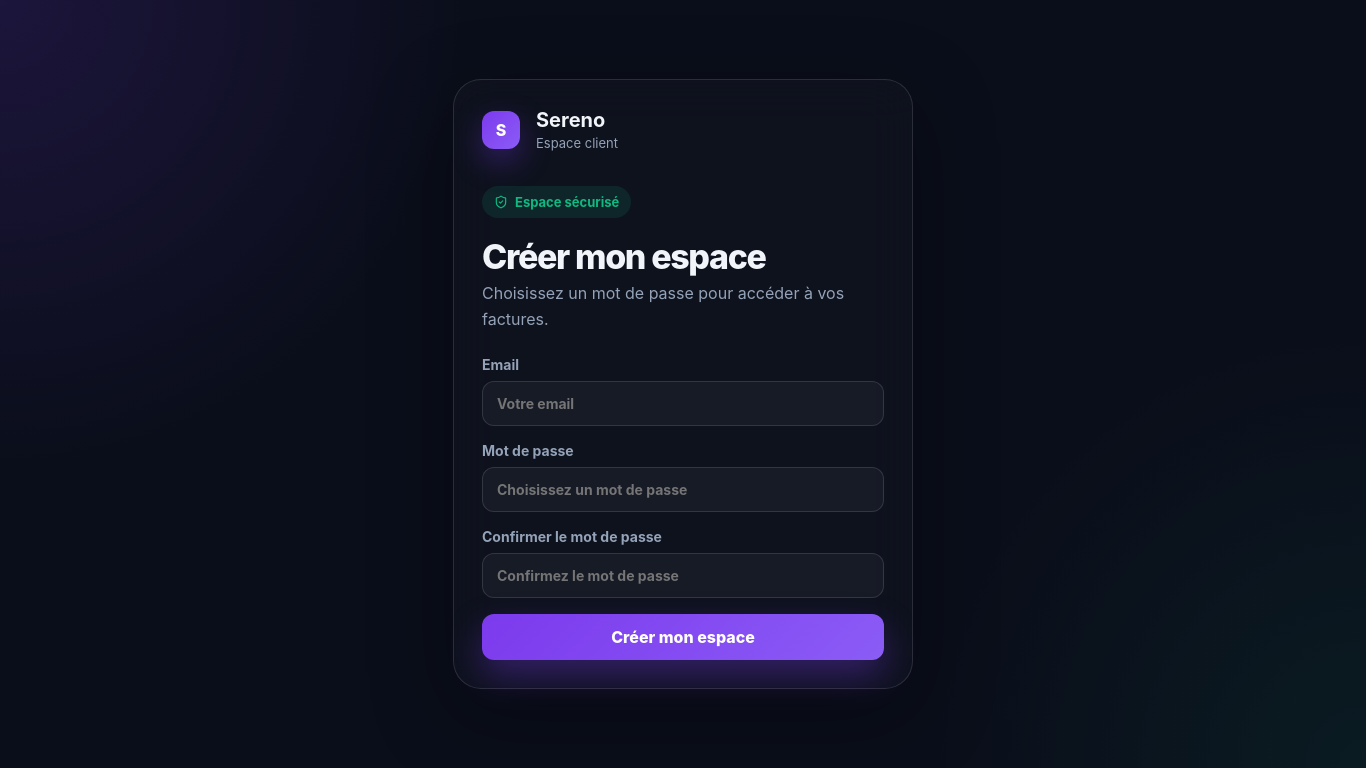
EspaceClientActivationPage › mots de passe différents -> erreur cliente, AUCUN appel API
In the field with placeholder "Votre email": (683, 404) [482,381,884,426], type "nouveau@test.fr"
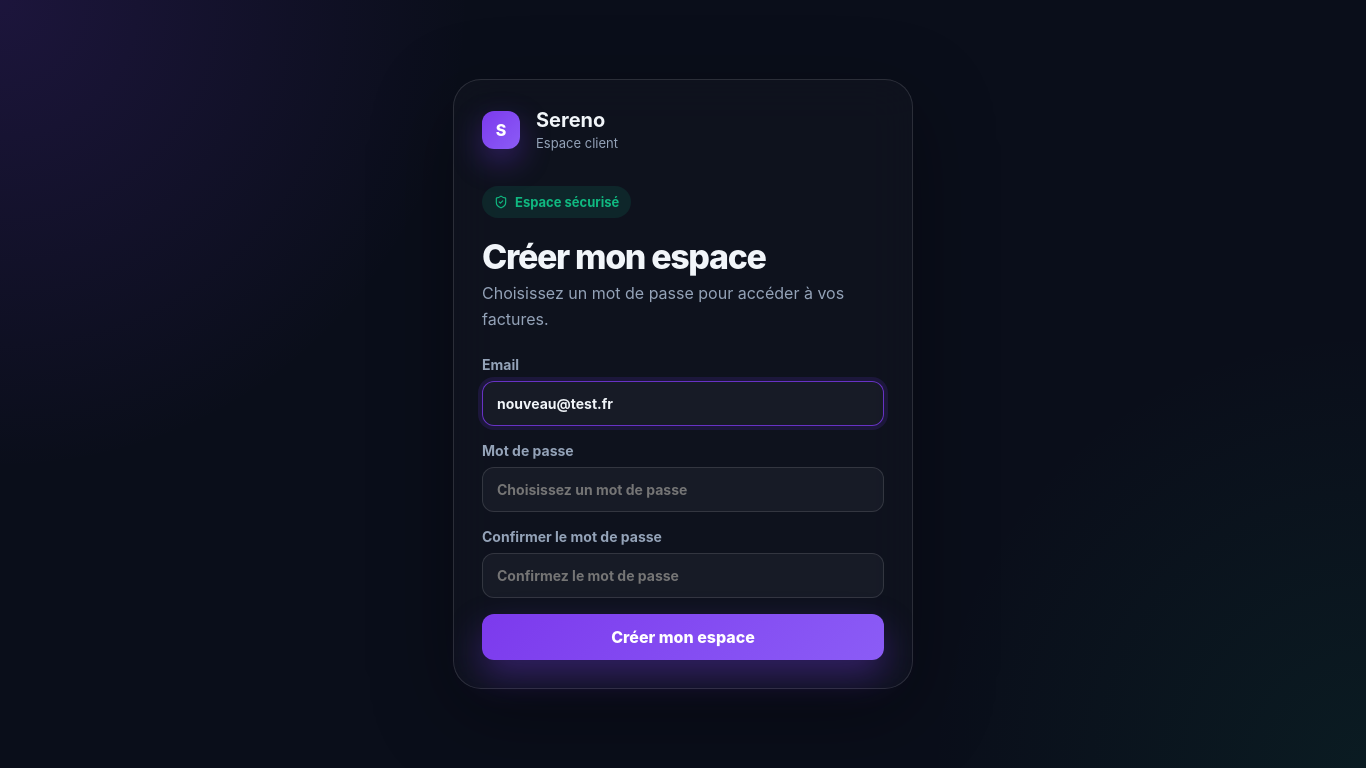
In the password field with placeholder "Choisissez un mot de passe": (683, 490) [482,467,884,512], type "motdepasse123"
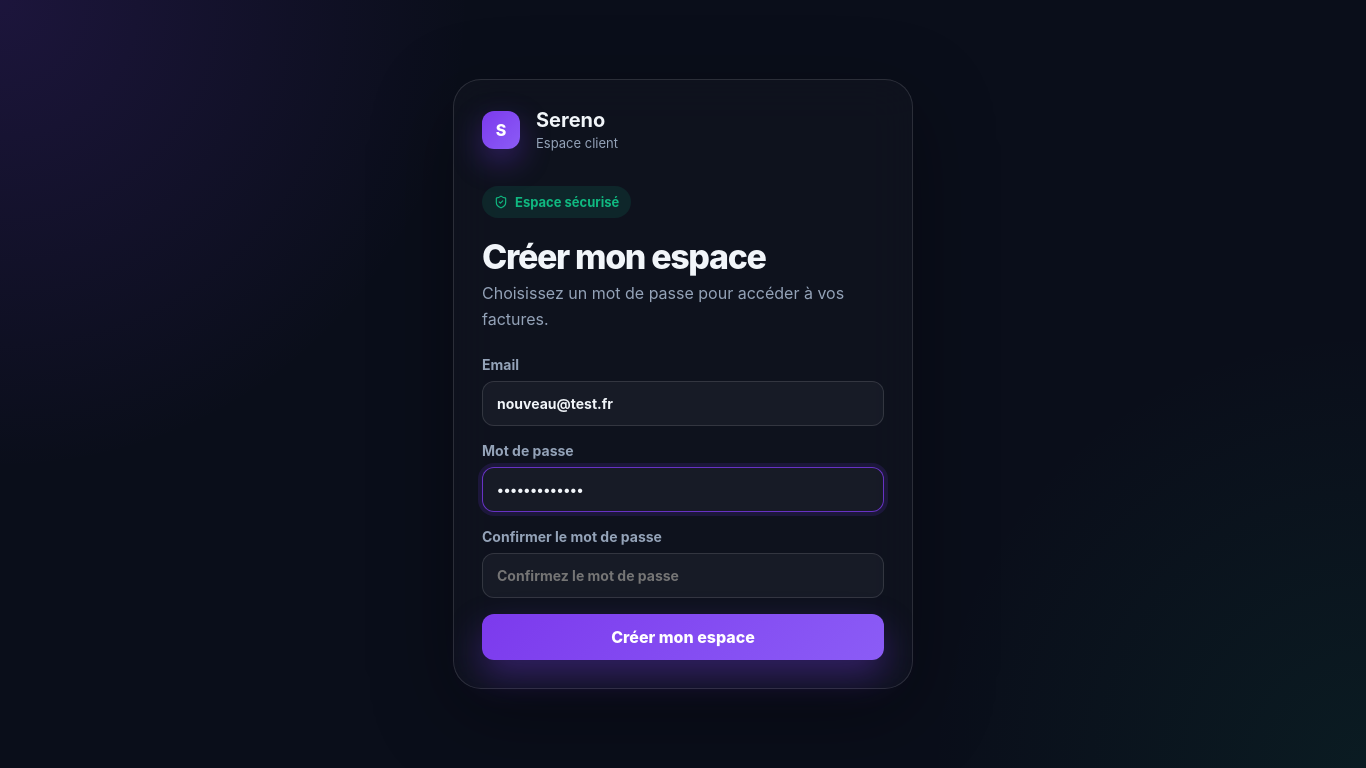
In the password field with placeholder "Confirmez le mot de passe": (683, 576) [482,553,884,598], type "autre-mot-de-passe"
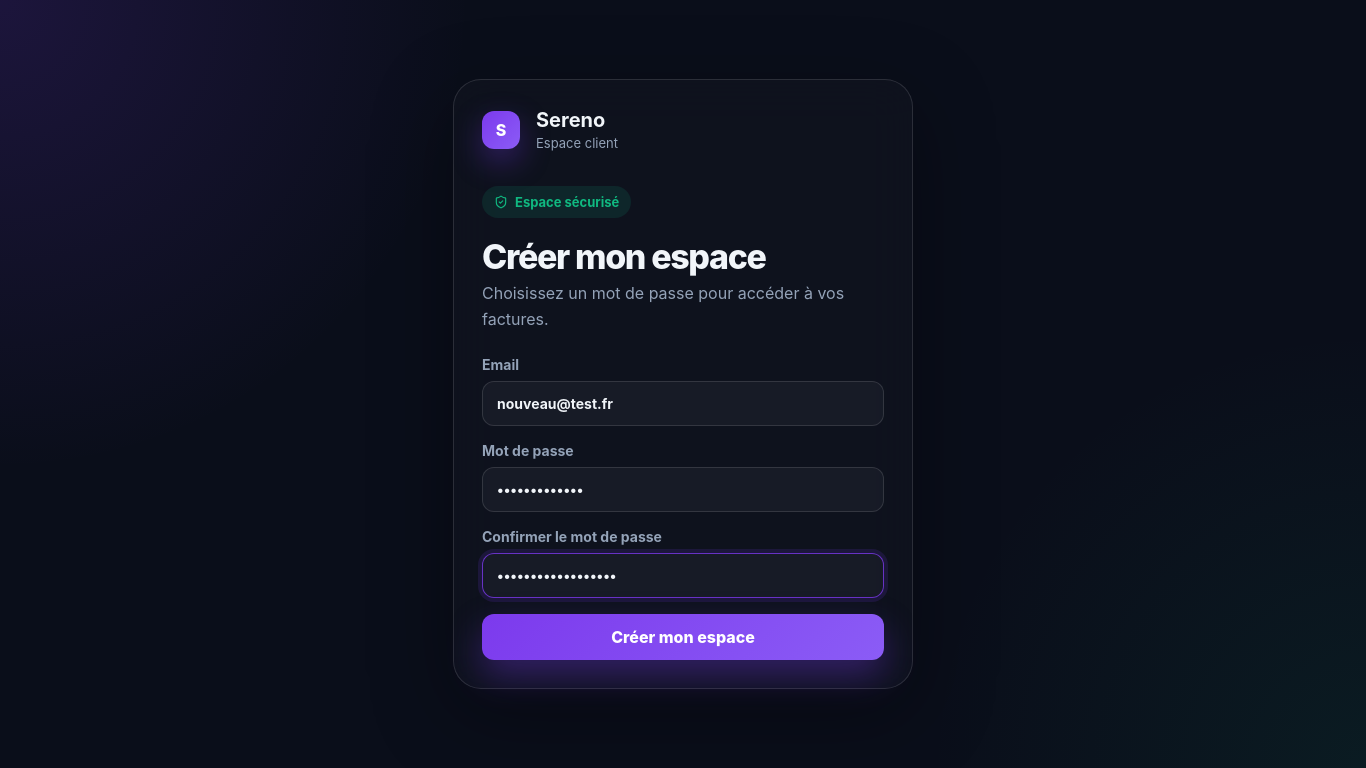
Click the button "Créer mon espace": (683, 637) [482,614,884,660]
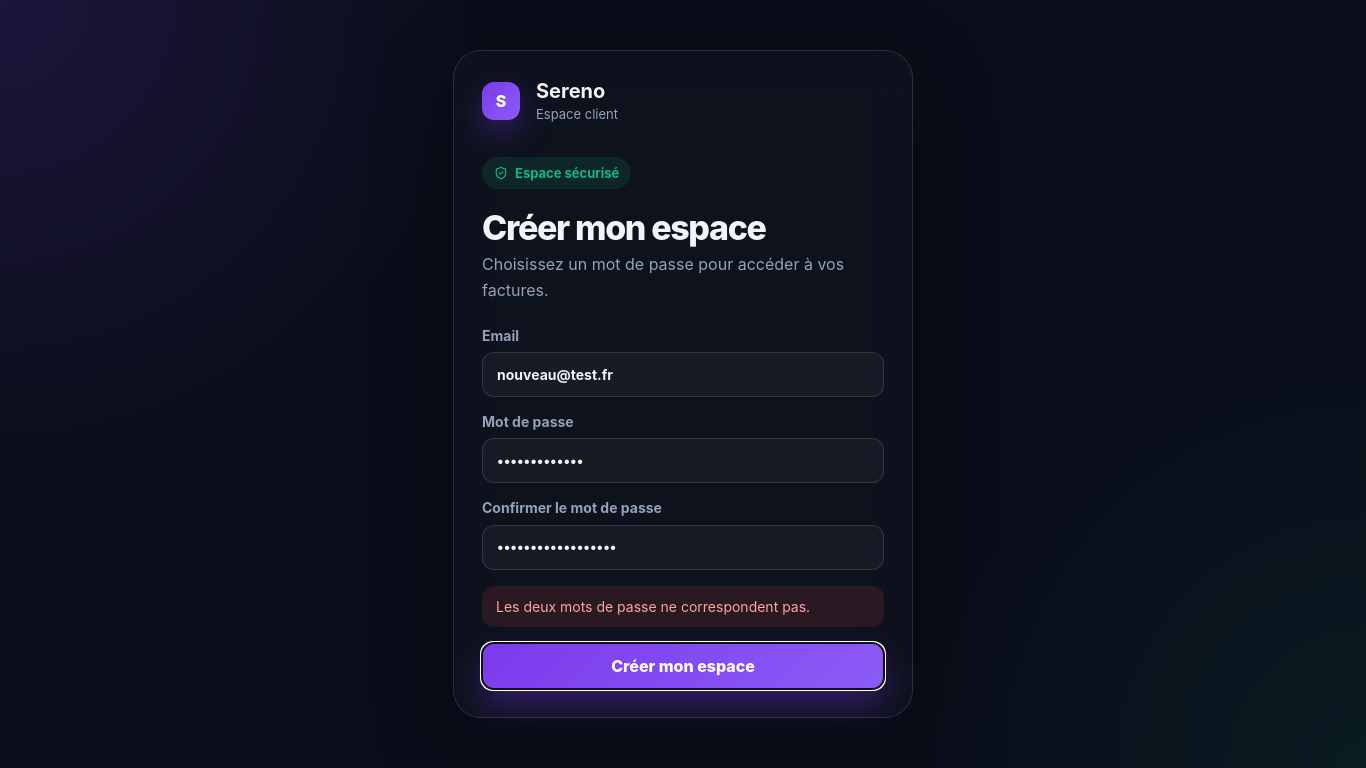
Expected: the text "Les deux mots de passe ne correspondent pas." is shown, [482,586,884,627]
